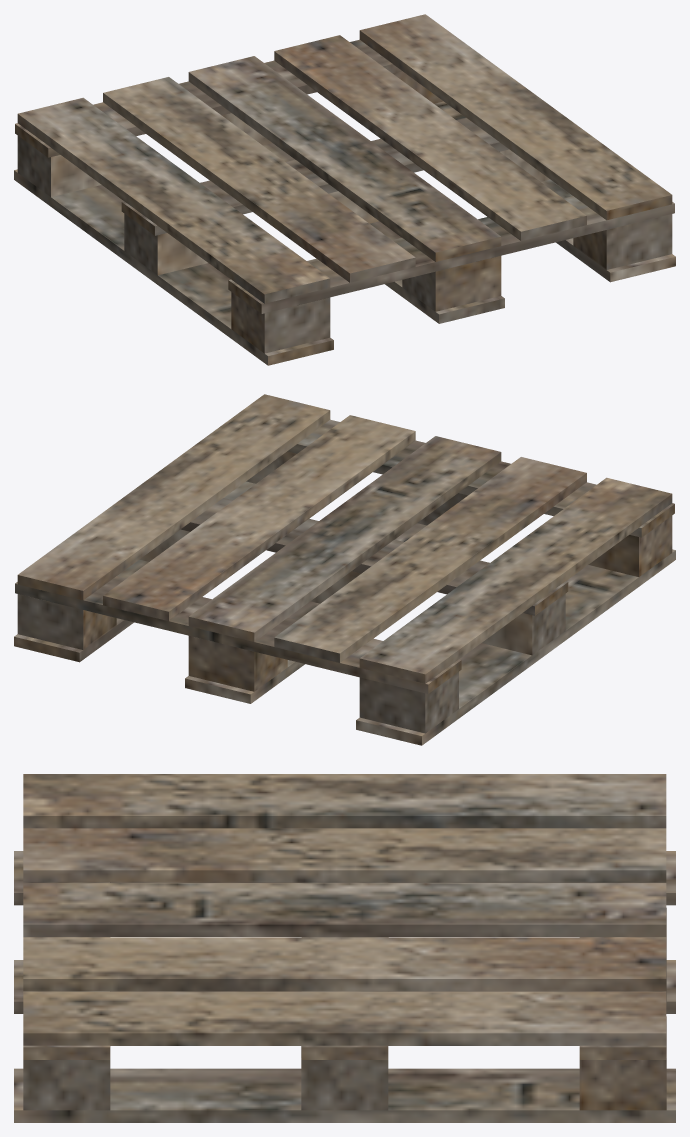
File: Palette.fbx
The picture shows the model from 3 angles, top to bottom: view 1: azimuth 30°, elevation 25°; view 2: azimuth 150°, elevation 25°; view 3: azimuth 270°, elevation 25°; orthographic projection. The views are drawn at different scales.
Visible parts, largest first — view 1: polySurface328; view 2: polySurface328; view 3: polySurface328.
Boxes of the visible parts, x1,y1,x2,y2 form: polySurface328: (14, 14, 675, 365); polySurface328: (14, 394, 675, 745); polySurface328: (14, 774, 675, 1122).
Bounding box in the file's own units: 2.57 × 0.4085 × 2.74.
